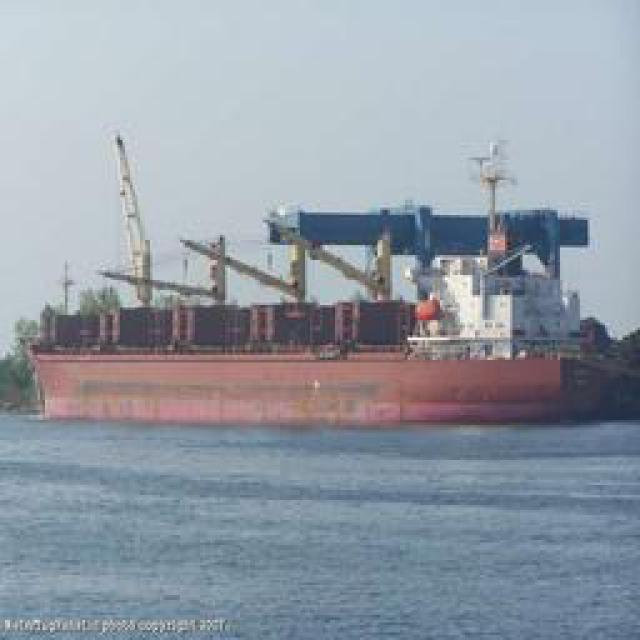Ship: (17, 116, 615, 445)
